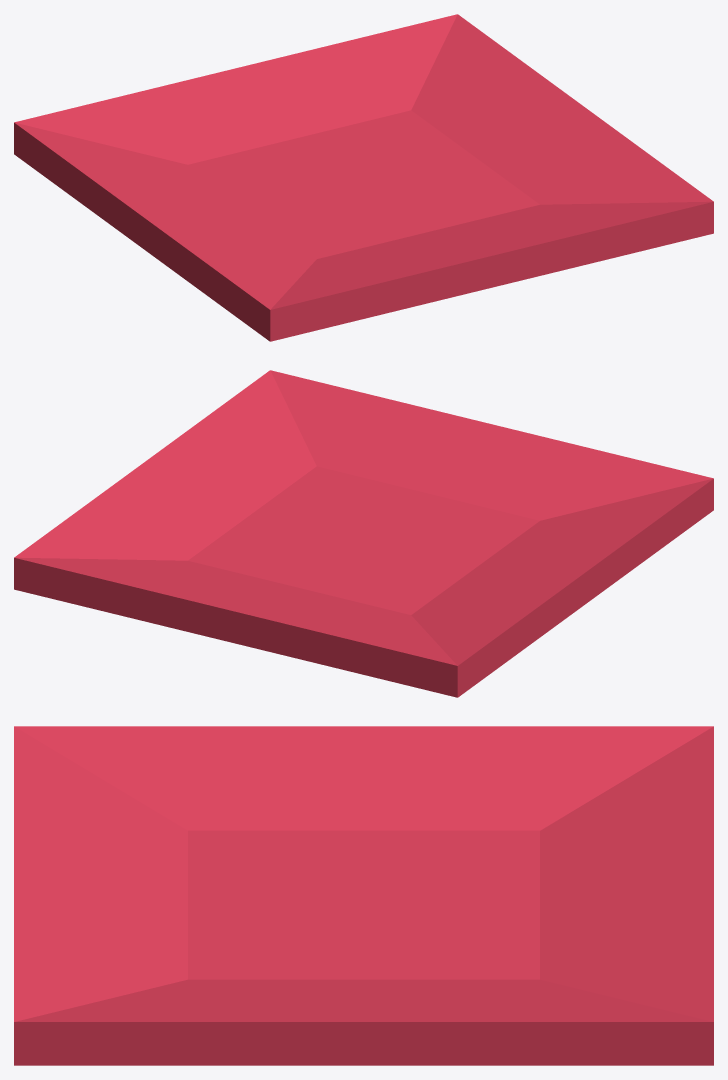
File: Itr_Obj_dish1_03.FBX
The picture shows the model from 3 angles, top to bottom: view 1: azimuth 30°, elevation 25°; view 2: azimuth 150°, elevation 25°; view 3: azimuth 270°, elevation 25°; orthographic projection. The views are drawn at different scales.
Visible parts, largest first — view 1: Itr_Obj_dish1_03; view 2: Itr_Obj_dish1_03; view 3: Itr_Obj_dish1_03.
Boxes of the visible parts, bbox=[...] form: Itr_Obj_dish1_03: bbox=[14, 14, 713, 341]; Itr_Obj_dish1_03: bbox=[14, 370, 713, 697]; Itr_Obj_dish1_03: bbox=[14, 726, 713, 1065].
Bounding box in the file's own units: 7.99 × 0.9383 × 7.99.
